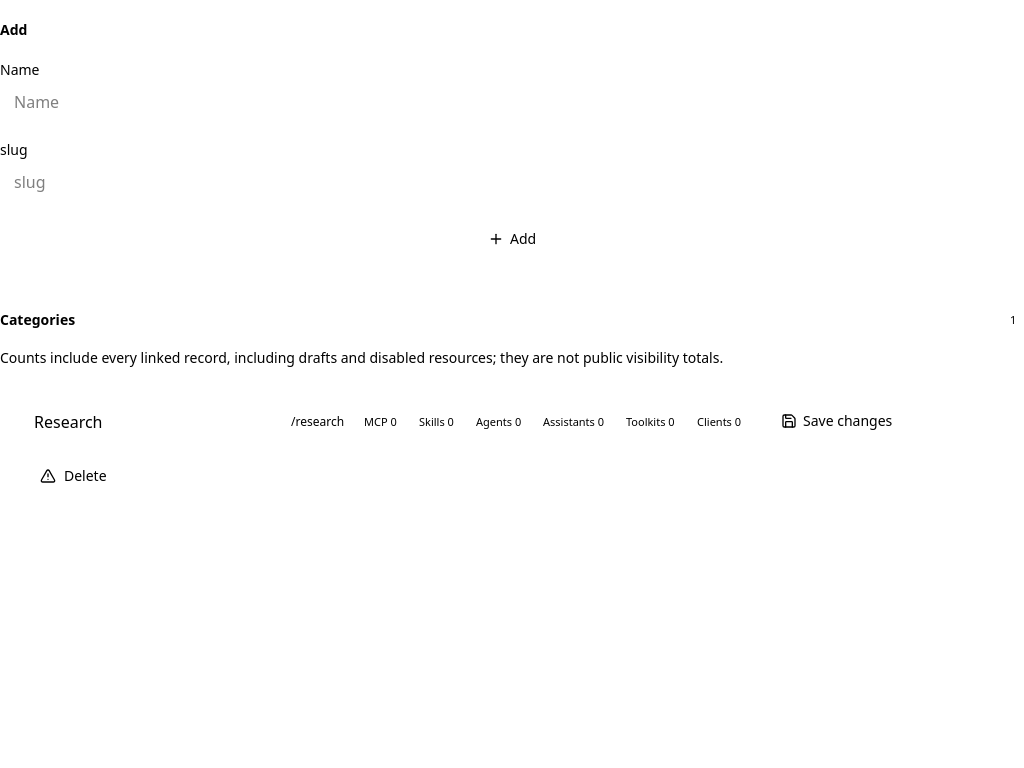
Scenario: practical admin navigation and forms › keeps category editing and deletion in separate forms
Click the button with aria-label "Delete category Research" at (73, 476), box x1=20 y1=456 x2=127 y2=496
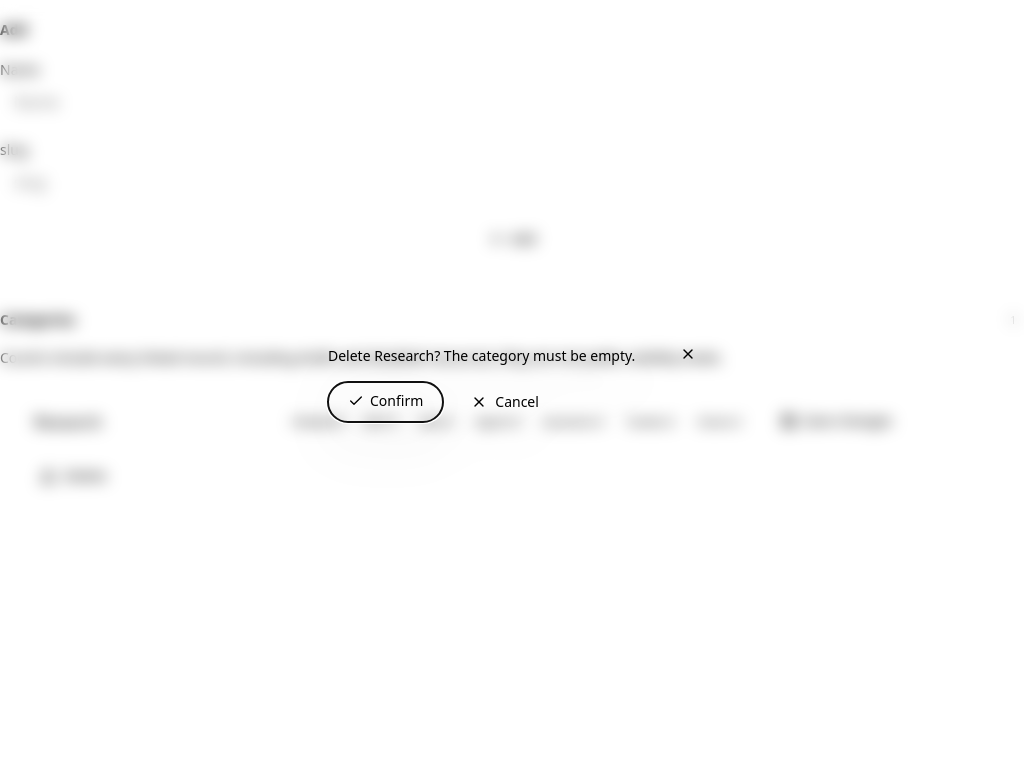
Click the button "Cancel" at (505, 402), box x1=451 y1=382 x2=559 y2=422
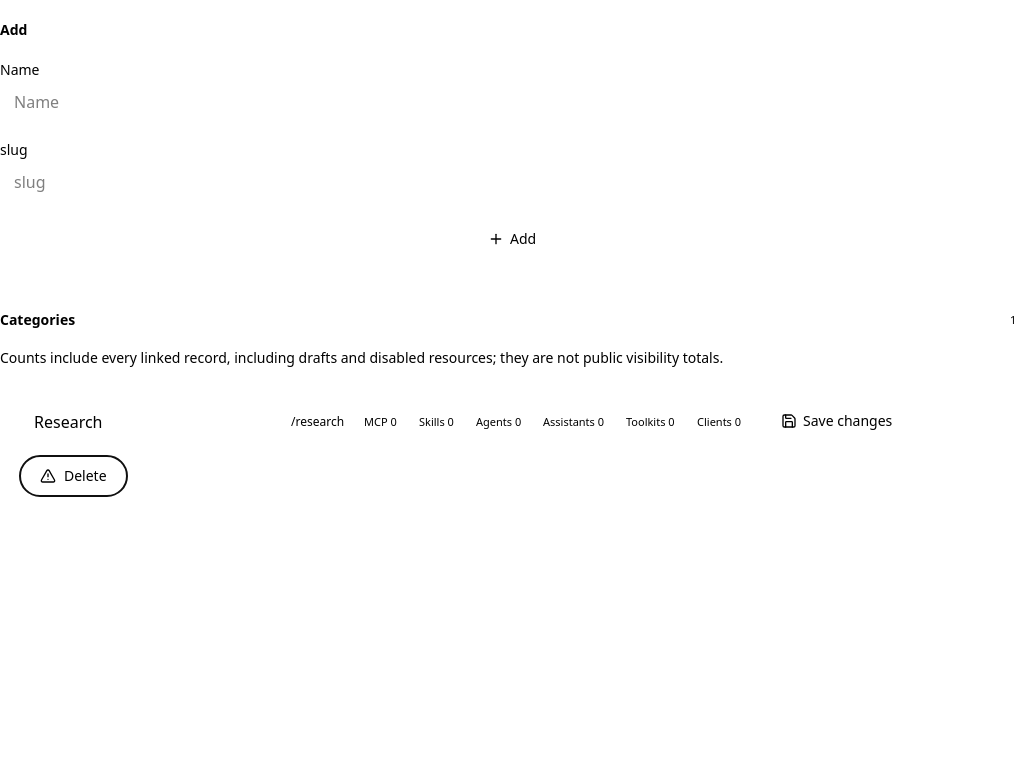
Expected: the dialog is gone
